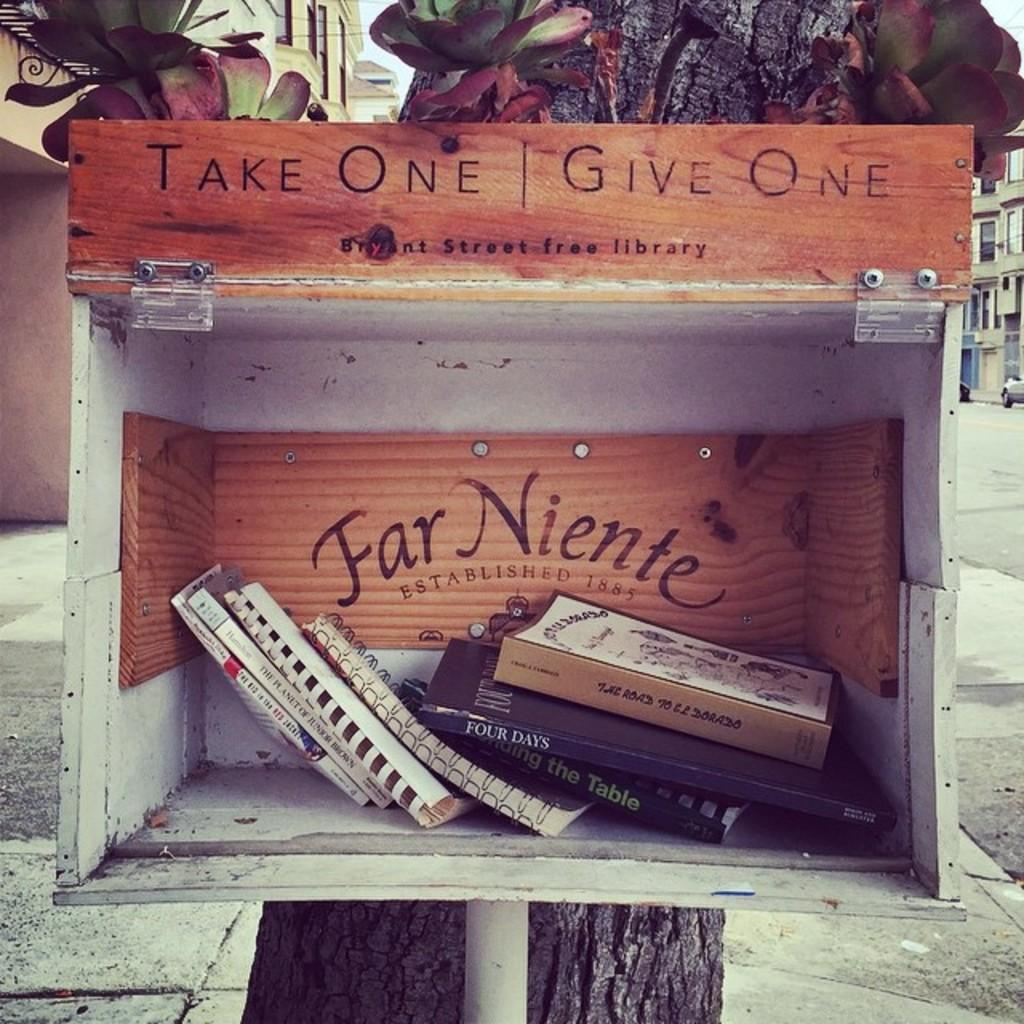book: (174, 568, 898, 850)
